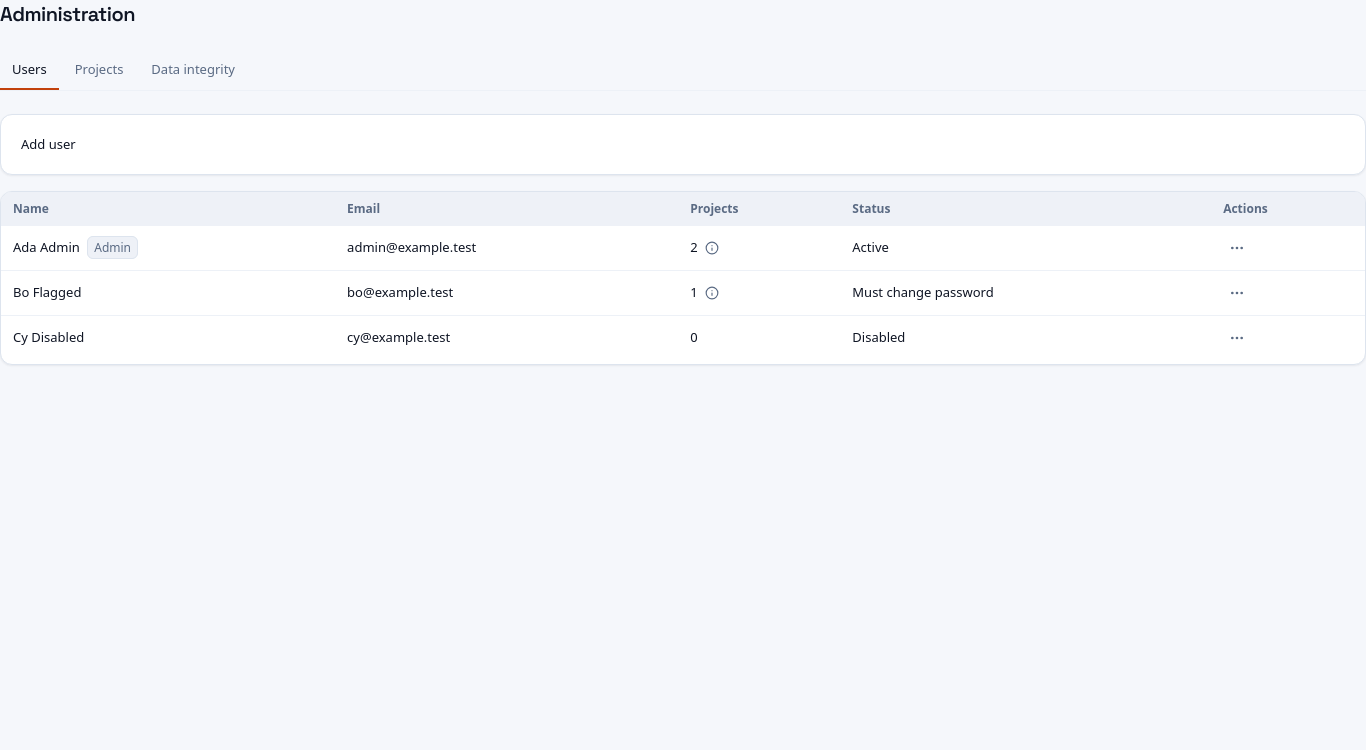
Test: AdminUsers — Add user › cannot add a project row once every project is chosen
Click the heading "Add user" at (48, 144), box left=21, top=134, right=76, bottom=152
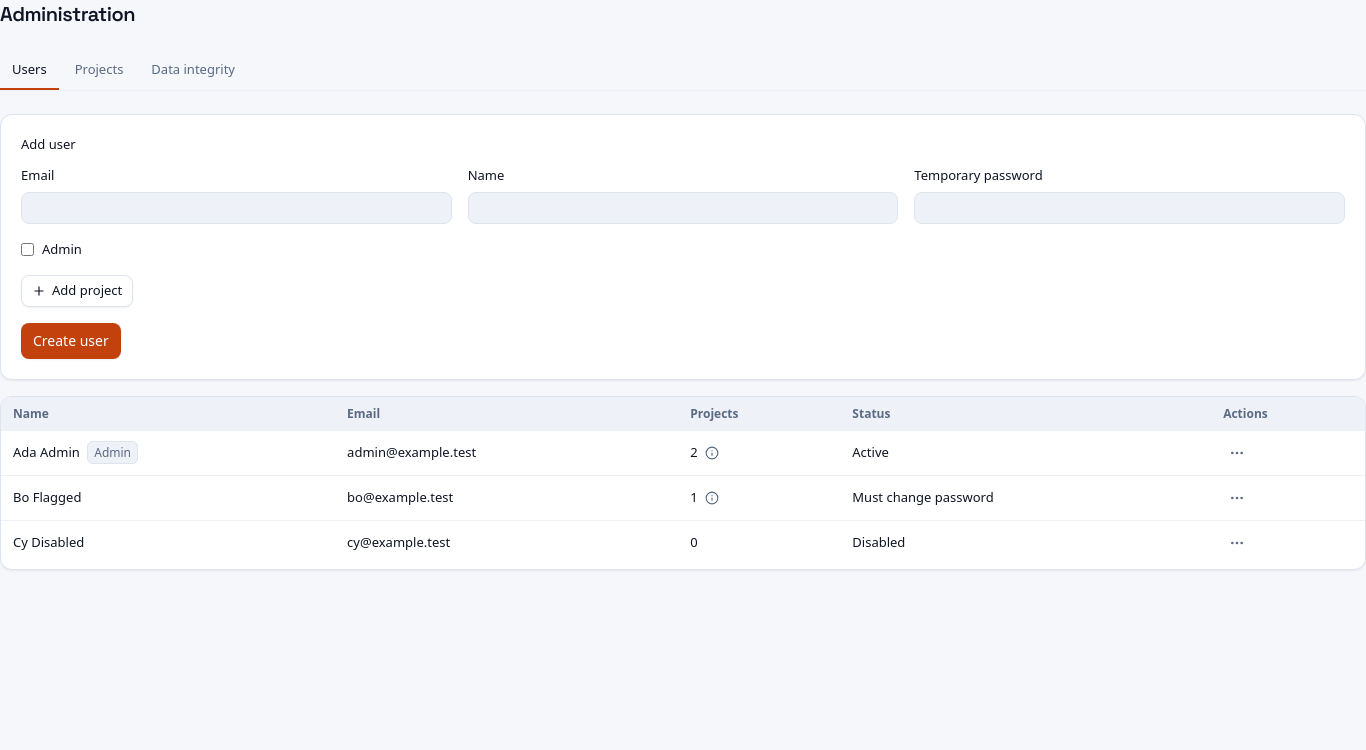
Click the button "Add project" at (77, 291), box left=21, top=275, right=133, bottom=307
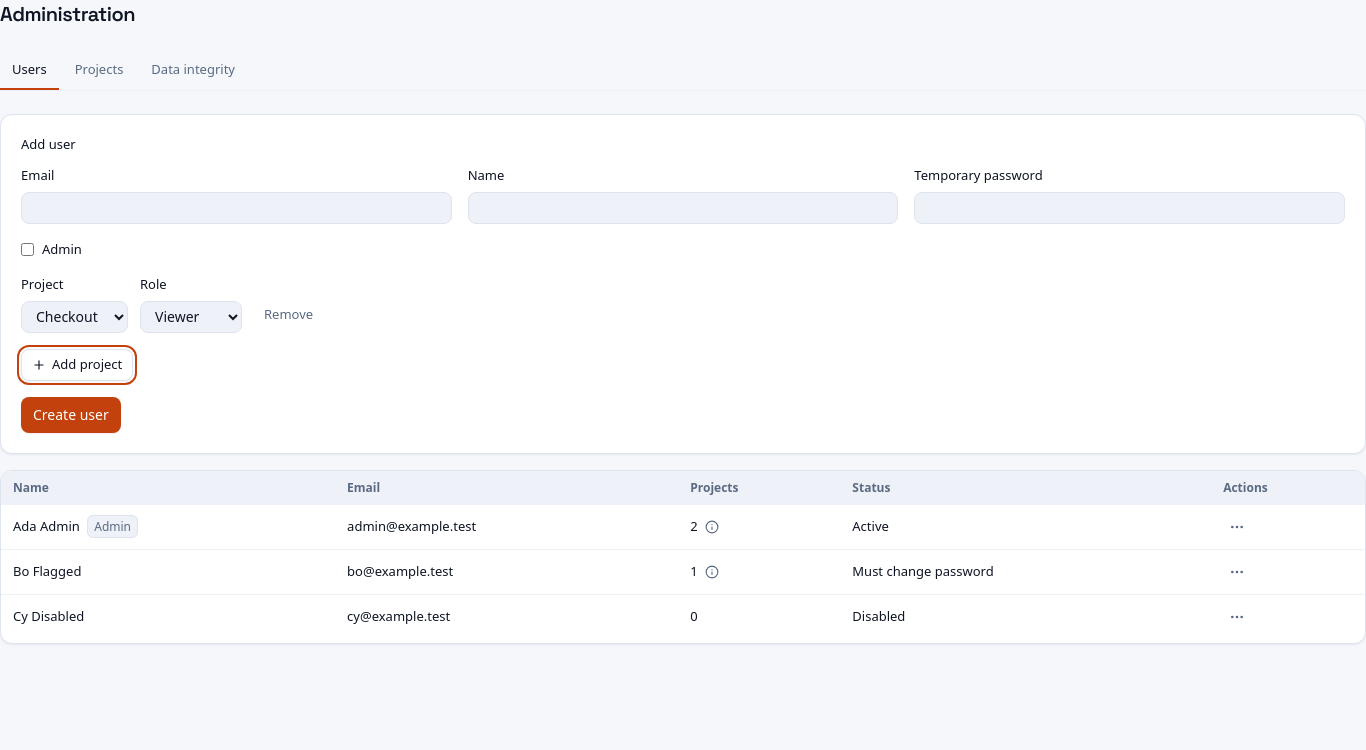
Click the button "Add project" at (77, 364), box left=21, top=348, right=133, bottom=380
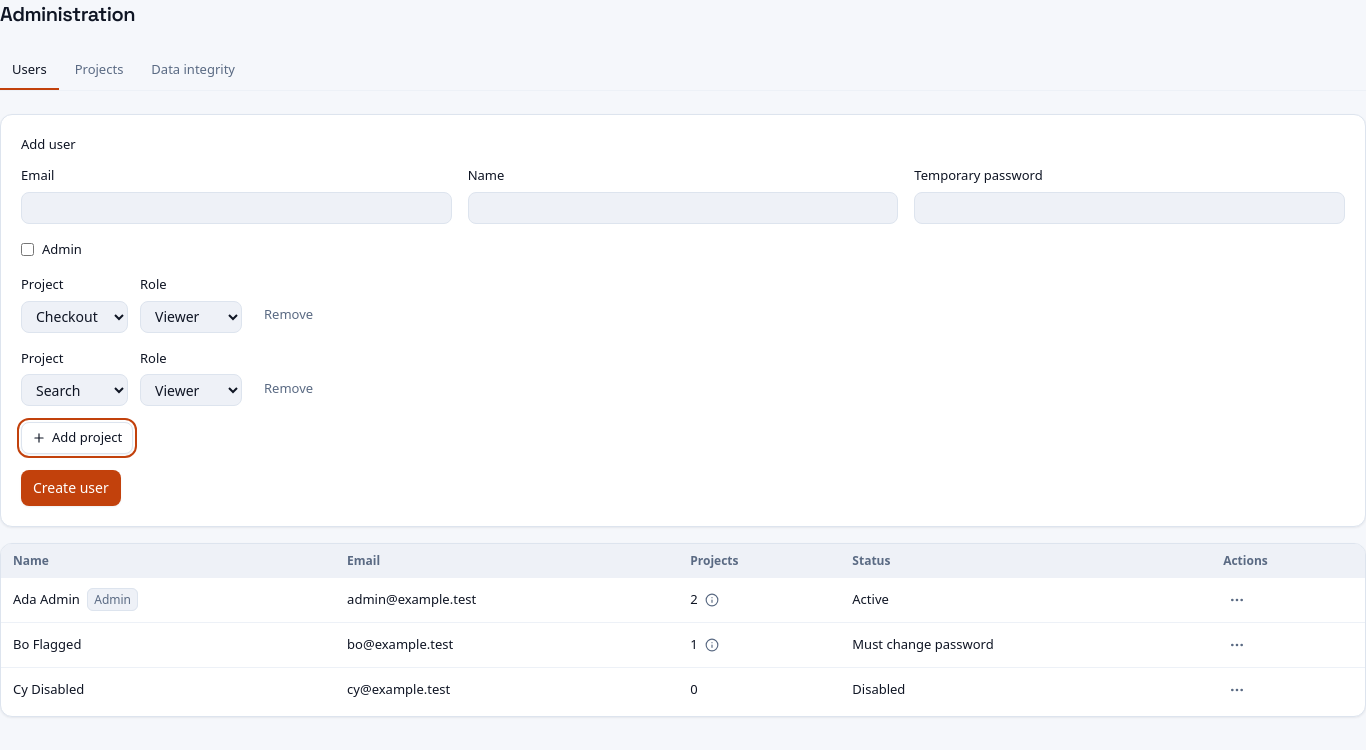
Expected: the button "Add project" is enabled
Click the button "Add project" at (77, 438), box left=21, top=422, right=133, bottom=454
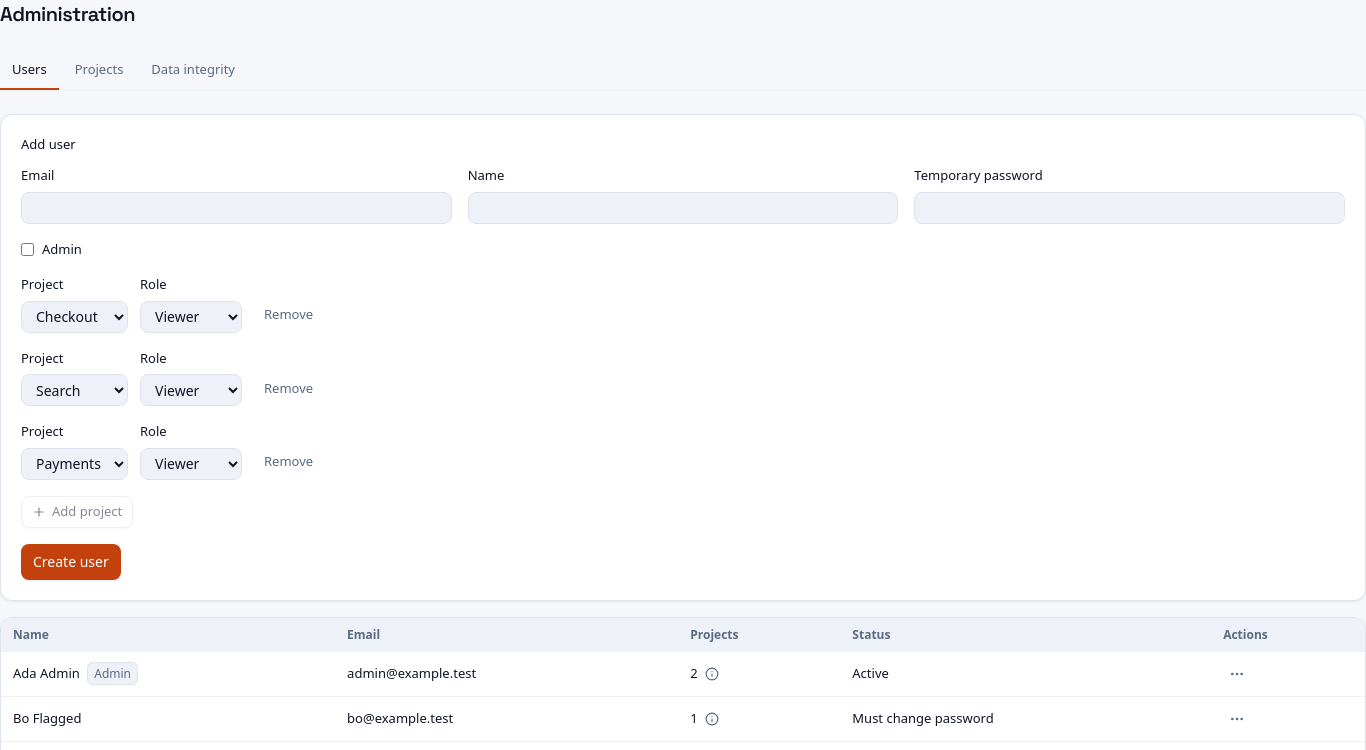
Expected: the dropdown named "Project 3" shows "Payments", left=21, top=448, right=128, bottom=480
Expected: the button "Add project" is disabled, left=21, top=496, right=133, bottom=528
Click the button named "Remove project 2" at (289, 388), box left=254, top=372, right=323, bottom=404
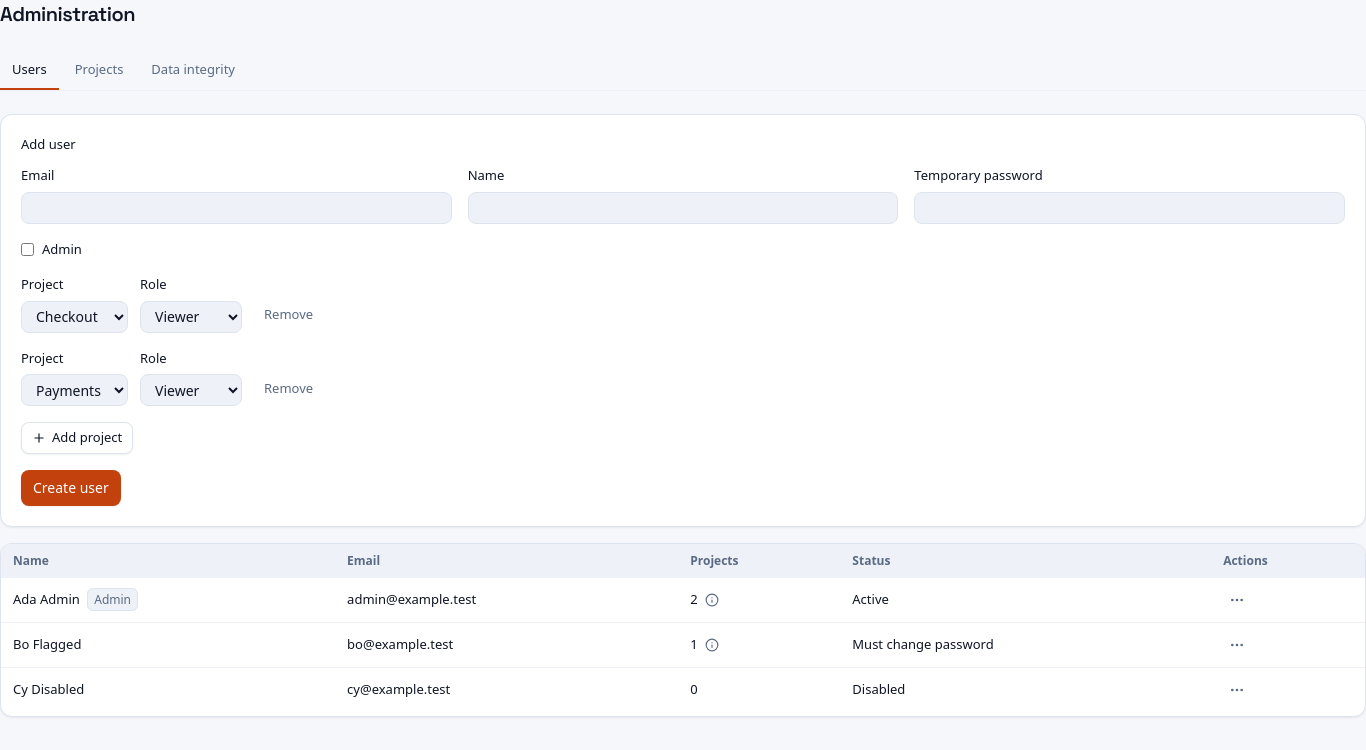
Expected: the dropdown labelled "Project 3" is not shown
Expected: the button "Add project" is enabled, left=21, top=422, right=133, bottom=454
